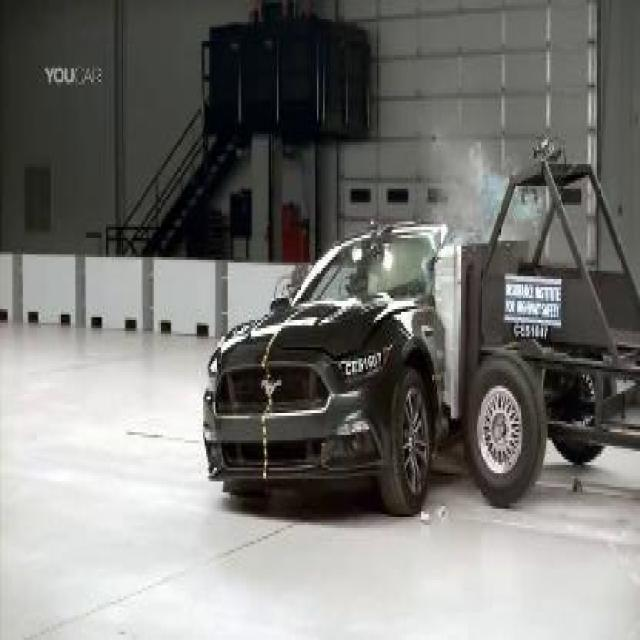accident: (192, 118, 640, 530)
